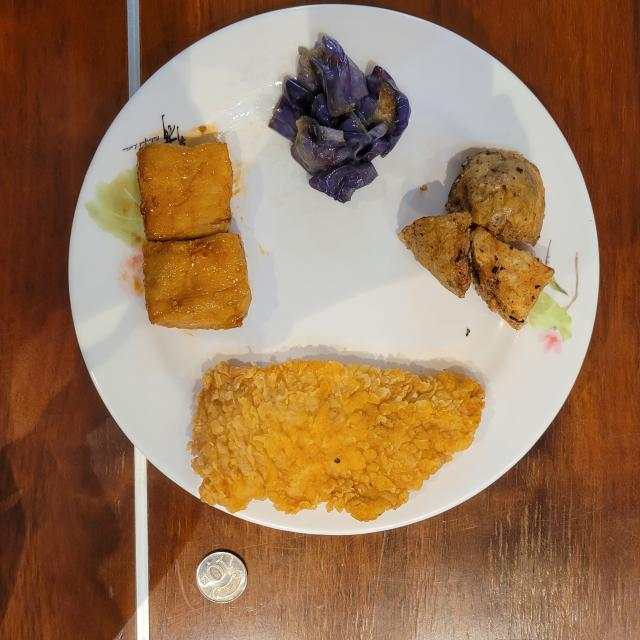coin: (196, 551, 248, 604)
creamy tofu: (138, 142, 251, 330)
fried chicken cutlet: (190, 360, 485, 521)
fried potato: (399, 151, 554, 329)
